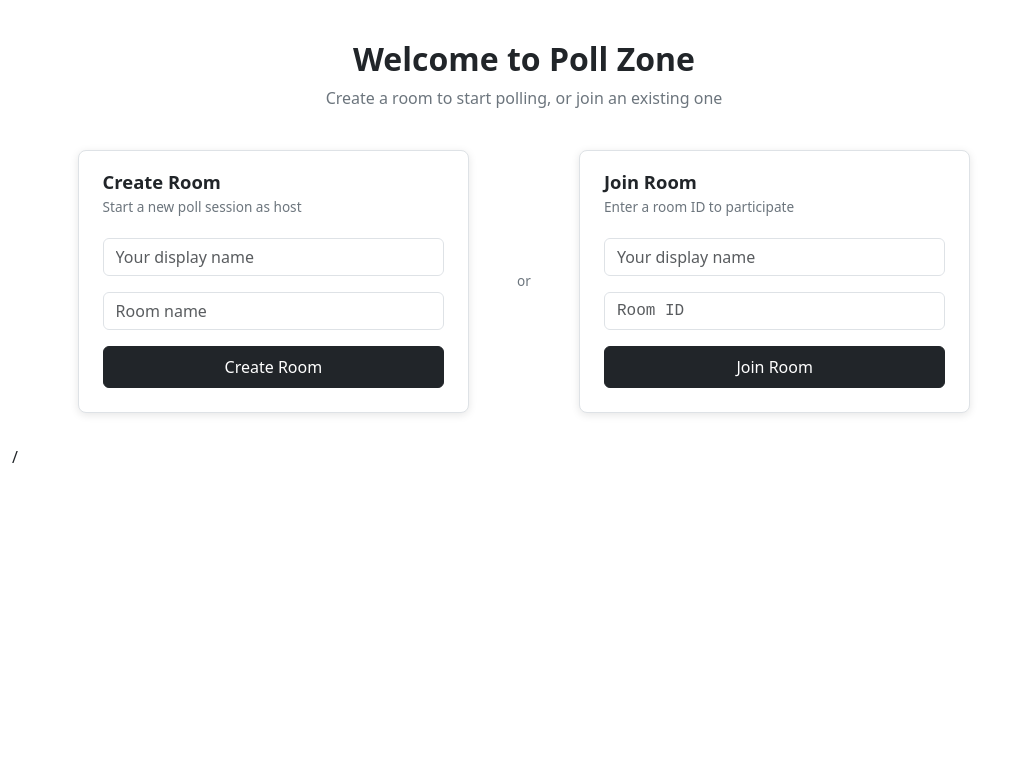
Home Flow Tests › Join Room Flow › shows error when joinPoll returns an error
In the field with placeholder "Your display name" below "Enter a room ID to participate": x=775, y=257 [604, 238, 945, 276], type "Bob"
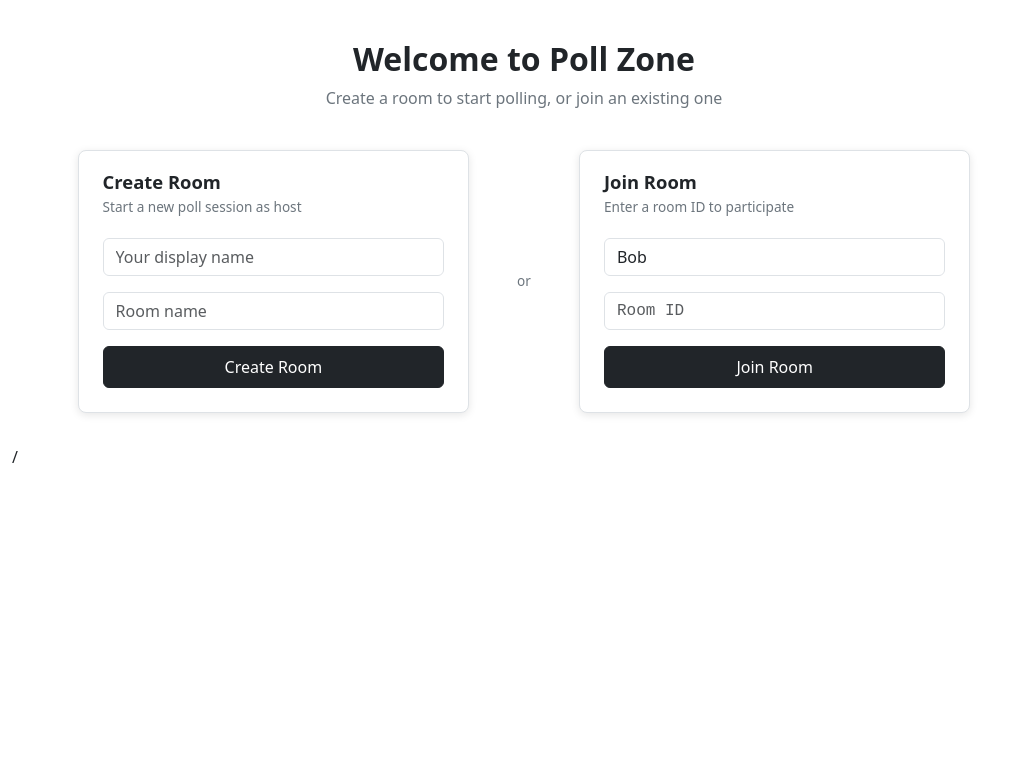
In the field with placeholder "Room ID": x=775, y=311 [604, 292, 945, 330], type "BAD-ROOM"
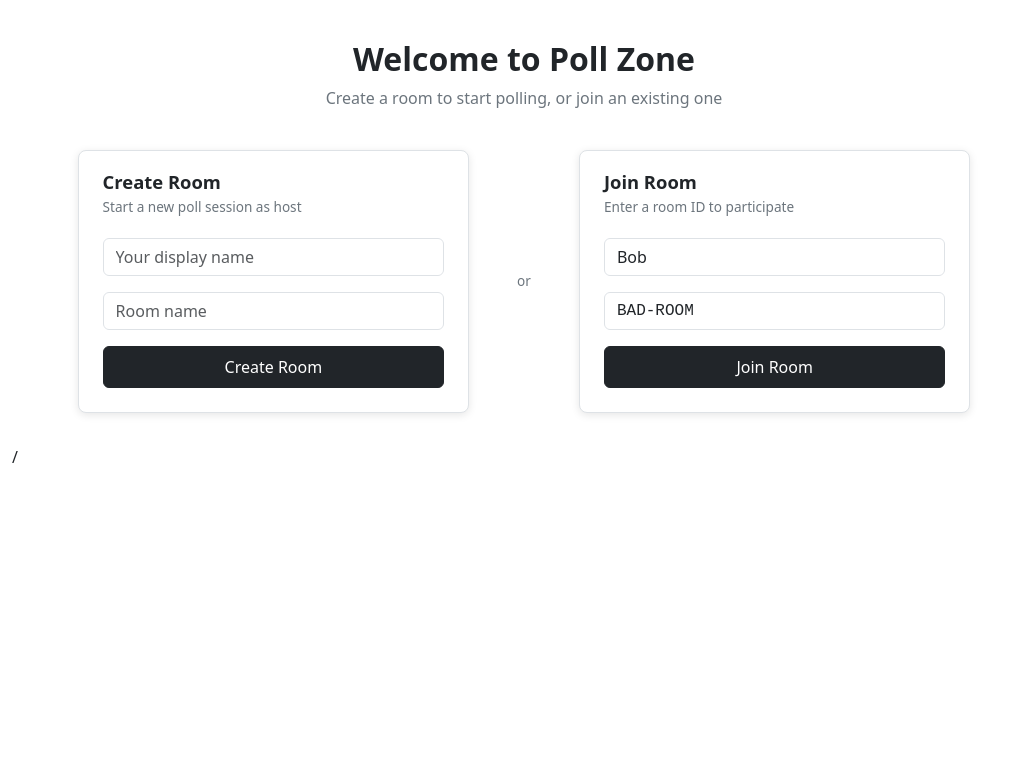
Click the button "Join Room": x=775, y=367 [604, 346, 945, 388]
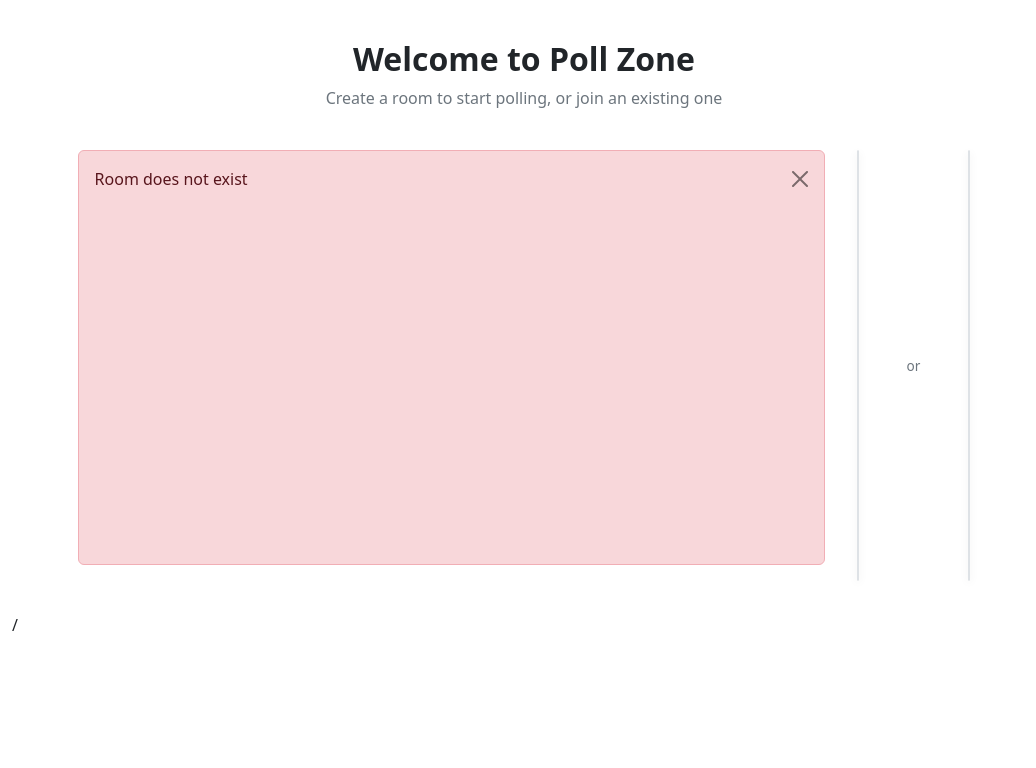
expect the text "Room does not exist" is shown: met, box [78, 150, 825, 565]
